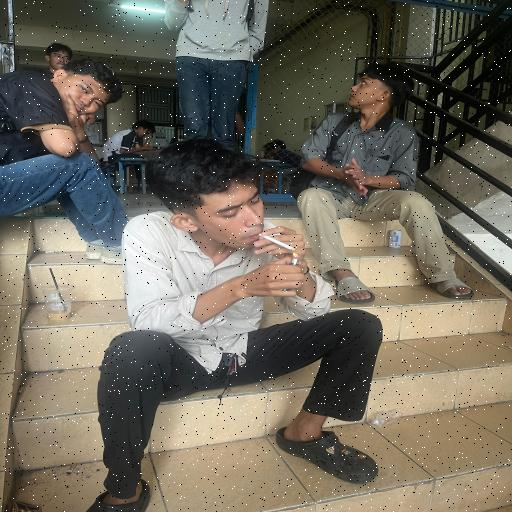dataset-deteksi-merokok: (220, 194, 307, 288)
